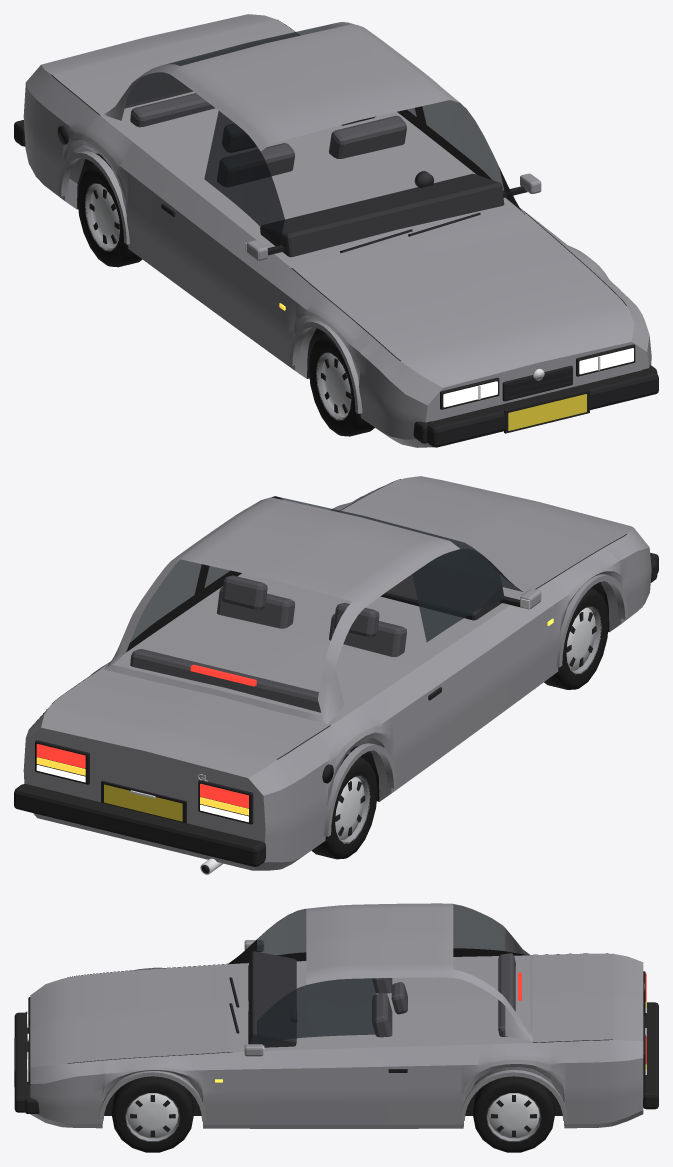
The model's file is tr_sedan.glb.
The picture shows the model from 3 angles, top to bottom: view 1: azimuth 30°, elevation 25°; view 2: azimuth 150°, elevation 25°; view 3: azimuth 270°, elevation 25°; orthographic projection. The views are drawn at different scales.
Visible parts, largest first — view 1: hood, tub, cabin_roof, door_R, nose, cabin_glass, dash, deck_lid, fender_R, quarter_R, bumper_front, tail (+15 smaller); view 2: cabin_roof, tub, tail, door_R, hood, deck_lid, cabin_glass, bumper_rear, quarter_R, fender_R, dash, wheel_RR (+16 smaller); view 3: door_L, tub, hood, cabin_roof, cabin_glass, quarter_L, deck_lid, fender_L, tail, wheel_RL, wheel_FL, nose (+9 smaller).
Boxes of the visible parts, x1=… form: hood: x1=292, y1=211, x2=626, y2=361; tub: x1=100, y1=91, x2=523, y2=267; cabin_roof: x1=104, y1=22, x2=459, y2=151; door_R: x1=117, y1=144, x2=291, y2=356; nose: x1=383, y1=306, x2=651, y2=447; cabin_glass: x1=125, y1=23, x2=504, y2=246; dash: x1=260, y1=173, x2=504, y2=257; deck_lid: x1=52, y1=20, x2=299, y2=115; fender_R: x1=274, y1=268, x2=400, y2=441; quarter_R: x1=34, y1=75, x2=134, y2=209; bumper_front: x1=427, y1=369, x2=658, y2=447; tail: x1=23, y1=14, x2=276, y2=175; cabin_roof: x1=103, y1=497, x2=459, y2=723; tub: x1=100, y1=573, x2=520, y2=725; tail: x1=23, y1=704, x2=294, y2=870; door_R: x1=367, y1=599, x2=541, y2=801; hood: x1=340, y1=479, x2=625, y2=595; deck_lid: x1=52, y1=669, x2=329, y2=759; cabin_glass: x1=130, y1=496, x2=522, y2=642; bumper_rear: x1=14, y1=784, x2=265, y2=866; quarter_R: x1=277, y1=702, x2=383, y2=869; fender_R: x1=533, y1=535, x2=643, y2=684; dash: x1=380, y1=564, x2=503, y2=620; wheel_RR: x1=311, y1=754, x2=377, y2=859; door_L: x1=232, y1=1044, x2=477, y2=1128; tub: x1=232, y1=955, x2=532, y2=1052; hood: x1=67, y1=964, x2=232, y2=1063; cabin_roof: x1=306, y1=903, x2=532, y2=1040; cabin_glass: x1=257, y1=904, x2=505, y2=1044; quarter_L: x1=478, y1=1040, x2=612, y2=1128; deck_lid: x1=533, y1=953, x2=612, y2=1042; fender_L: x1=67, y1=1052, x2=232, y2=1128; tail: x1=612, y1=954, x2=643, y2=1125; wheel_RL: x1=473, y1=1076, x2=554, y2=1152; wheel_FL: x1=112, y1=1076, x2=193, y2=1152; nose: x1=30, y1=978, x2=66, y2=1127.
Bounding box in the file's own units: 1.88 × 1.39 × 4.73.
